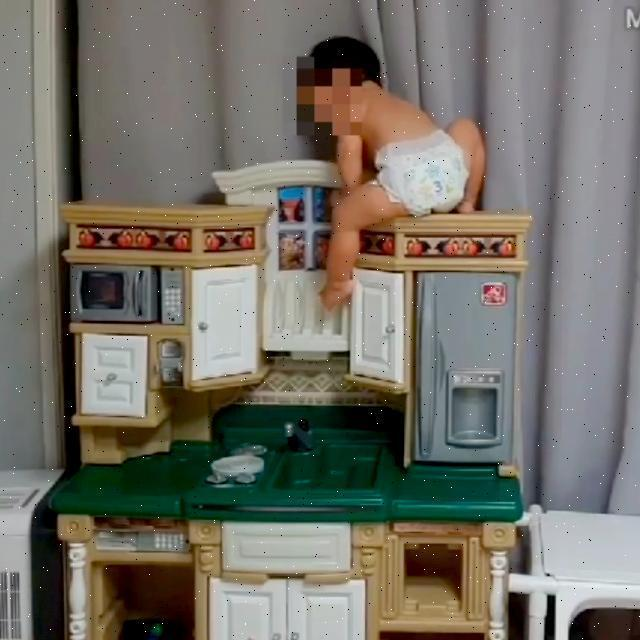child: (298, 33, 490, 317)
